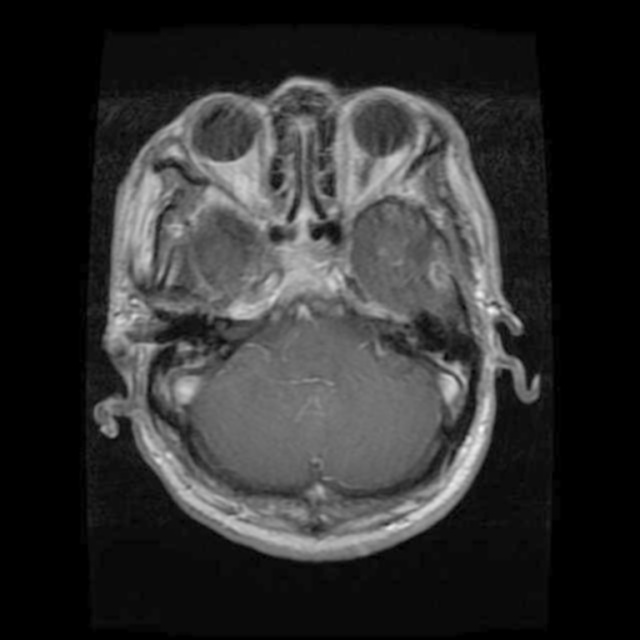pituitary tumor: (259, 241, 340, 299)
